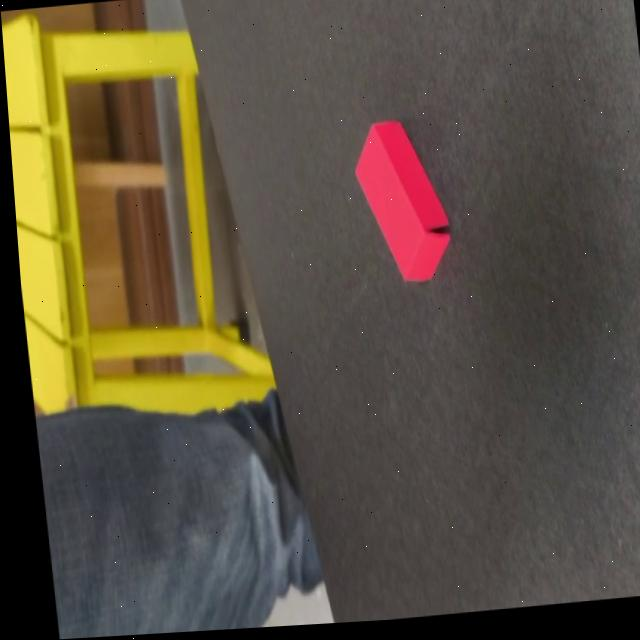red block: (346, 115, 454, 290)
